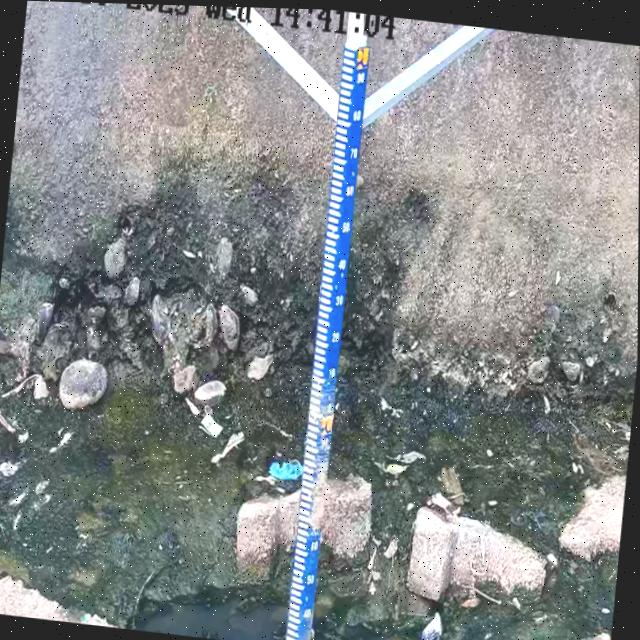water-meter: (274, 27, 379, 640)
